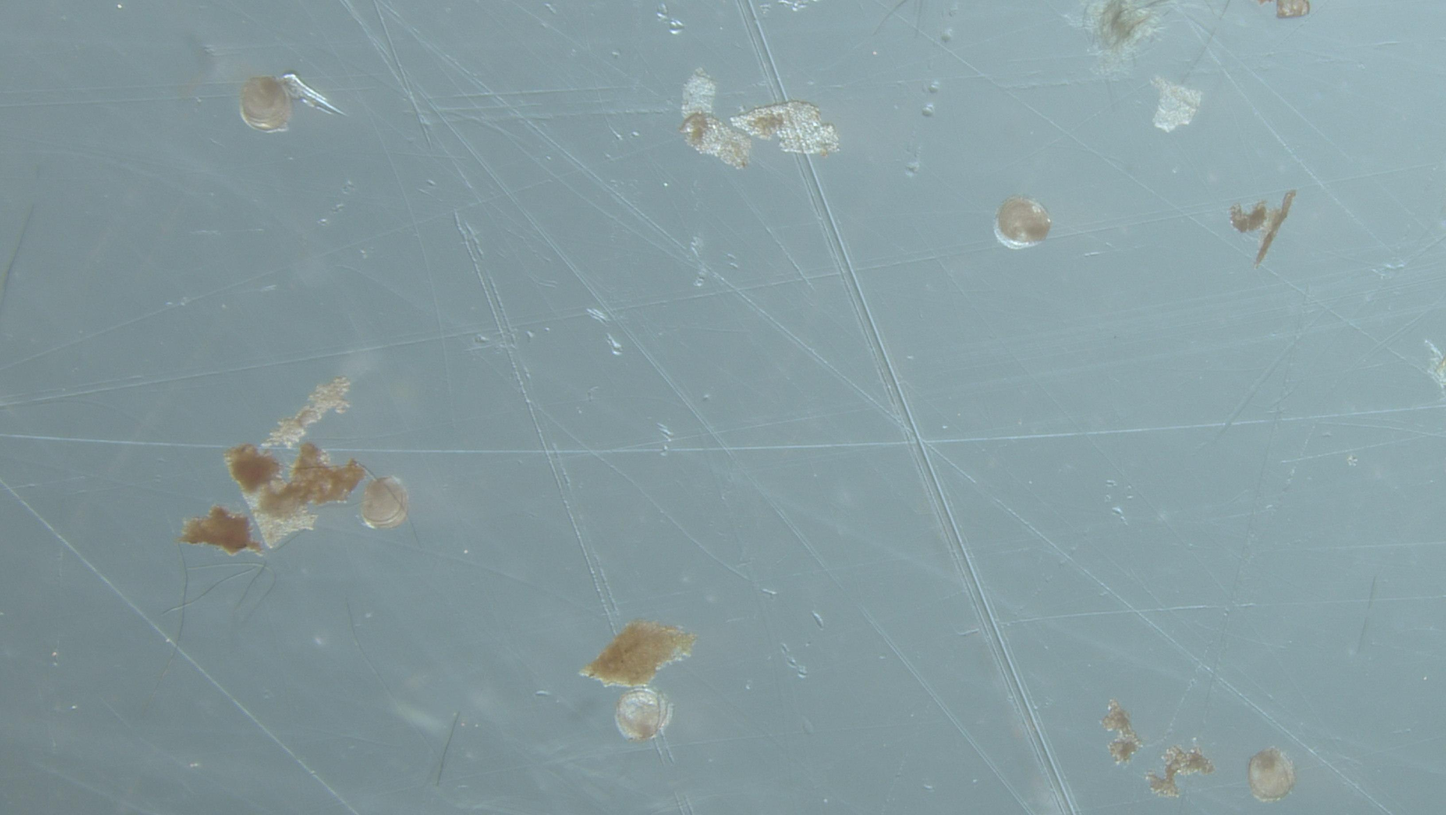live: (995, 196, 1051, 249), (241, 77, 292, 132), (361, 476, 409, 528), (1248, 749, 1295, 802)
